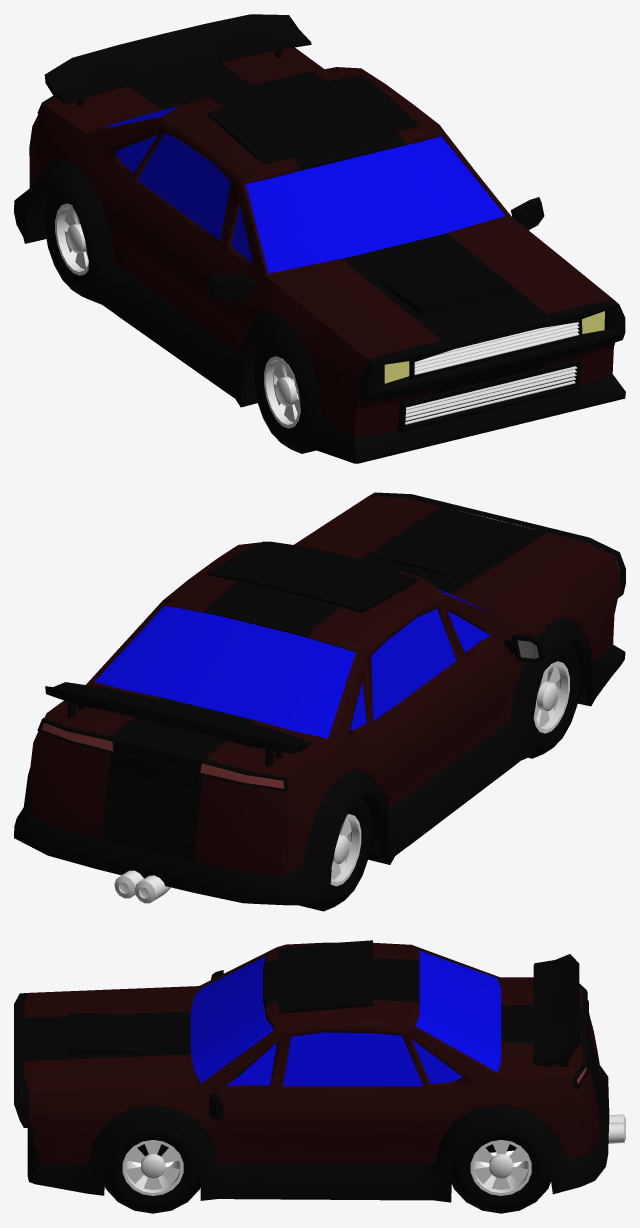
The model's file is Muscle Evolution3 Black LineBlackDarkRed Blue White.glb.
The picture shows the model from 3 angles, top to bottom: view 1: azimuth 30°, elevation 25°; view 2: azimuth 150°, elevation 25°; view 3: azimuth 270°, elevation 25°; orthographic projection. The views are drawn at different scales.
Visible parts, largest first — view 1: evo3_body1_f1_dupl, evo3_sill3_f1_dupl, evo3_frontGlass_f1_dupl, evo3_rooftop3_f1_dupl, evo3_spoiler3_f1_dupl, evo3_frontBlockGrid3_f1_dupl, evo3_glasseBigR_f1_dupl, evo3_airtrap_front4_f1_dupl, evo3_blockgrid3_f1_dupl, evo3_gridfrontbot3_f1_dupl, evo3_gridfrontup3_f1_dupl, evo3_tire_rf1_f1_dupl (+6 smaller); view 2: evo3_body1_f1_dupl, evo3_sill3_f1_dupl, evo3_BackGlassGlass_f1_dupl, evo3_rooftop3_f1_dupl, evo3_spoiler3_f1_dupl, evo3_glasseBigR_f1_dupl, evo3_airtrap_front4_f1_dupl, evo3_blockbacklight_f1_dupl, evo3_rim_A_rf_f1_dupl, evo3_tire_rf1_f1_dupl, evo3_tire_rf_f1_dupl, evo3_frontBlockGrid3_f1_dupl (+6 smaller); view 3: evo3_body1_f1_dupl, evo3_sill3_f1_dupl, evo3_BackGlassGlass_f1_dupl, evo3_glasseBigL_f1_dupl, evo3_frontGlass_f1_dupl, evo3_rooftop3_f1_dupl, evo3_spoiler3_f1_dupl, evo3_tire_lf_f1_dupl, evo3_tire_lb_f1_dupl, evo3_airtrap_front4_f1_dupl, evo3_rim_A_lf_f1_dupl, evo3_rim_A_lb_f1_dupl (+5 smaller).
Boxes of the visible parts, x1,y1,x2,y2 form: evo3_body1_f1_dupl: [29, 47, 614, 438]; evo3_sill3_f1_dupl: [14, 159, 625, 463]; evo3_frontGlass_f1_dupl: [246, 136, 505, 273]; evo3_rooftop3_f1_dupl: [207, 74, 419, 164]; evo3_spoiler3_f1_dupl: [44, 14, 311, 106]; evo3_frontBlockGrid3_f1_dupl: [360, 299, 625, 402]; evo3_glasseBigR_f1_dupl: [137, 133, 230, 240]; evo3_airtrap_front4_f1_dupl: [373, 254, 512, 316]; evo3_blockgrid3_f1_dupl: [398, 359, 581, 432]; evo3_gridfrontbot3_f1_dupl: [405, 366, 577, 424]; evo3_gridfrontup3_f1_dupl: [414, 322, 579, 374]; evo3_tire_rf1_f1_dupl: [253, 336, 315, 453]; evo3_body1_f1_dupl: [30, 496, 620, 875]; evo3_sill3_f1_dupl: [14, 617, 625, 905]; evo3_BackGlassGlass_f1_dupl: [95, 606, 355, 738]; evo3_rooftop3_f1_dupl: [207, 541, 418, 613]; evo3_spoiler3_f1_dupl: [45, 682, 311, 766]; evo3_glasseBigR_f1_dupl: [371, 608, 456, 721]; evo3_airtrap_front4_f1_dupl: [374, 518, 512, 579]; evo3_blockbacklight_f1_dupl: [37, 718, 288, 791]; evo3_rim_A_rf_f1_dupl: [533, 661, 569, 733]; evo3_tire_rf1_f1_dupl: [528, 641, 580, 758]; evo3_tire_rf_f1_dupl: [299, 796, 371, 911]; evo3_frontBlockGrid3_f1_dupl: [369, 492, 625, 597]; evo3_body1_f1_dupl: [24, 942, 601, 1164]; evo3_sill3_f1_dupl: [27, 1065, 609, 1202]; evo3_BackGlassGlass_f1_dupl: [415, 950, 501, 1072]; evo3_glasseBigL_f1_dupl: [283, 1032, 423, 1086]; evo3_frontGlass_f1_dupl: [190, 956, 273, 1083]; evo3_rooftop3_f1_dupl: [276, 940, 373, 1012]; evo3_spoiler3_f1_dupl: [533, 954, 579, 1066]; evo3_tire_lf_f1_dupl: [104, 1125, 200, 1213]; evo3_tire_lb_f1_dupl: [451, 1127, 550, 1213]; evo3_airtrap_front4_f1_dupl: [68, 1012, 150, 1055]; evo3_rim_A_lf_f1_dupl: [122, 1140, 183, 1195]; evo3_rim_A_lb_f1_dupl: [470, 1140, 531, 1195].
Size of the model in its own units: 177 by 116 by 335.
8 materials, 1 textured.
